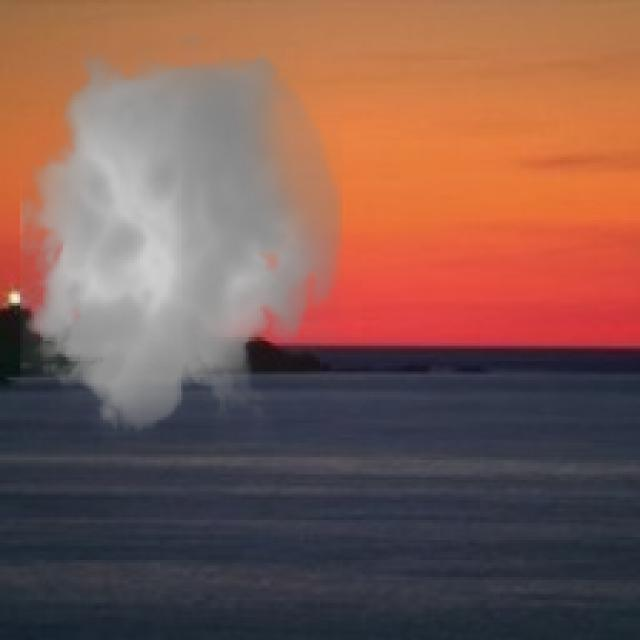Smoke: (6, 34, 354, 446)
